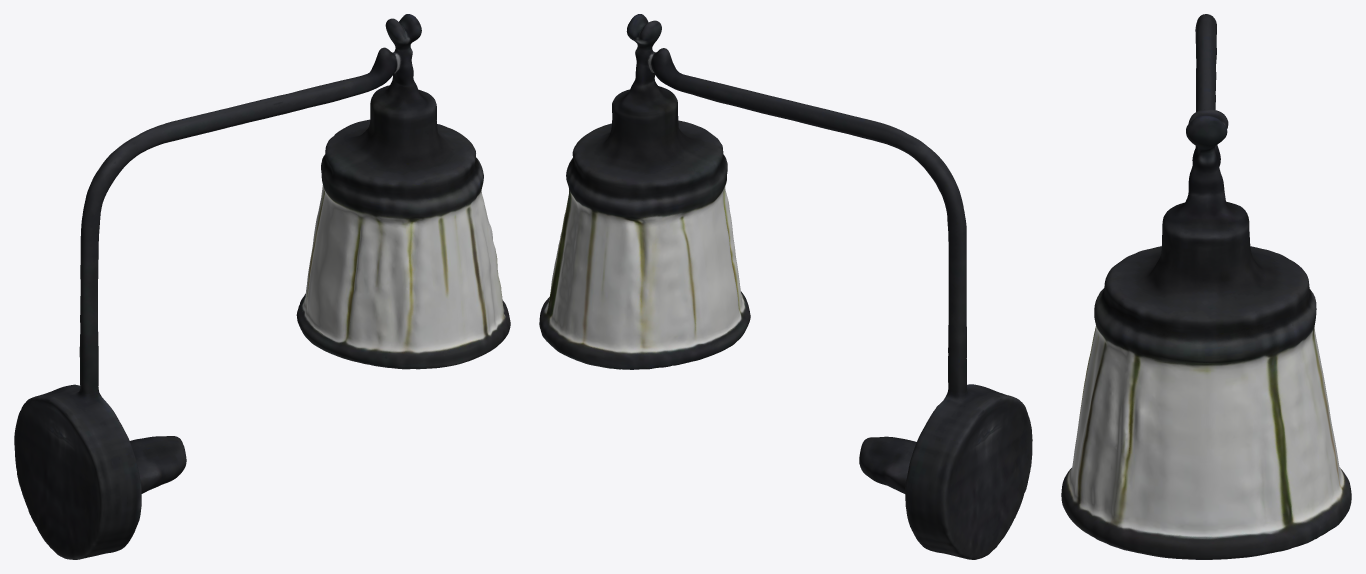
The model's file is b9bc9297a191_lamp__3d_asset_0_gl.fbx.
3 views of the same model, side by side, from view 1: azimuth 30°, elevation 25°; view 2: azimuth 150°, elevation 25°; view 3: azimuth 270°, elevation 25° (orthographic). The views are drawn at different scales.
Parts seen in each view (by area): view 1: high_poly; view 2: high_poly; view 3: high_poly.
Part boxes in pixels (bbox=[...]): high_poly: bbox=[14, 14, 510, 559]; high_poly: bbox=[539, 14, 1032, 559]; high_poly: bbox=[1061, 14, 1351, 559].
Bounding box in the file's own units: 100 × 99.32 × 44.87.
